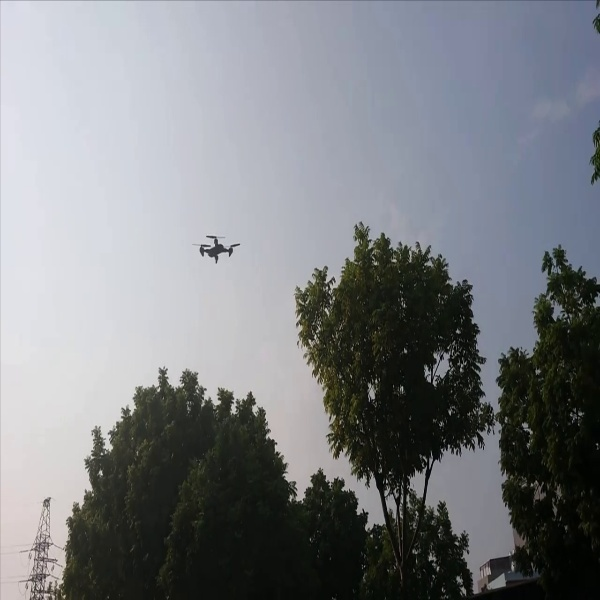drone: (187, 231, 243, 271)
